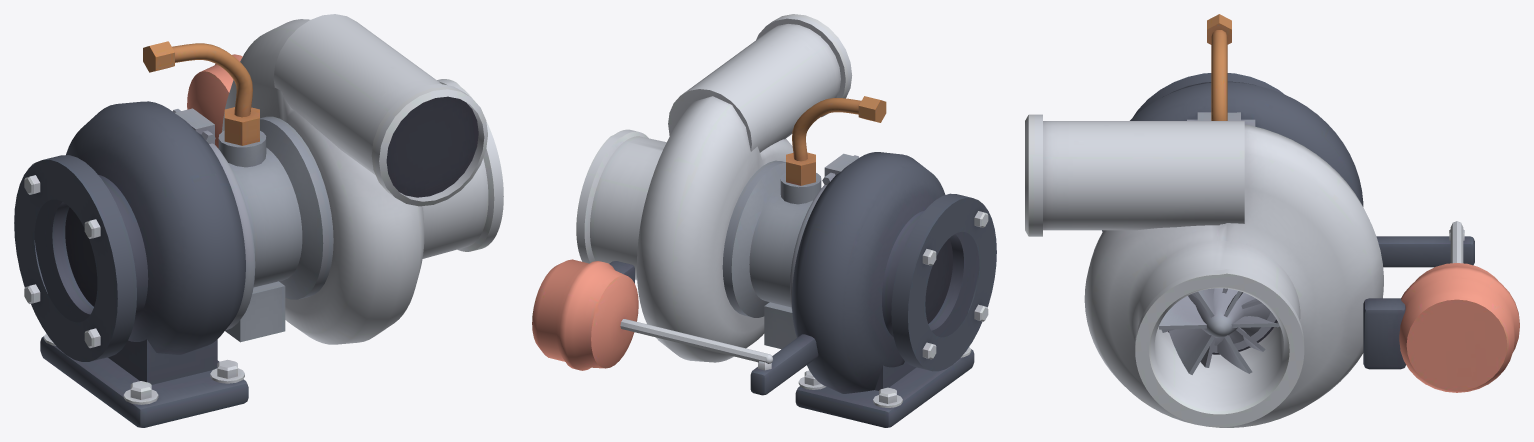
File: turbocharger.glb
3 views of the same model, side by side, from view 1: azimuth 30°, elevation 25°; view 2: azimuth 150°, elevation 25°; view 3: azimuth 270°, elevation 25° (orthographic). The views are drawn at different scales.
Visible parts, largest first — view 1: turbocharger_body; view 2: turbocharger_body; view 3: turbocharger_body, turbocharger_impeller.
Part boxes in pixels (x1,y1,x2,y2): turbocharger_body: (14, 14, 503, 427); turbocharger_body: (532, 14, 996, 427); turbocharger_body: (1025, 14, 1519, 427); turbocharger_impeller: (1159, 288, 1279, 374).
Bounding box in the file's own units: 0.3062 × 0.2455 × 0.3355.
Materials: 2 (2 with a texture image).
